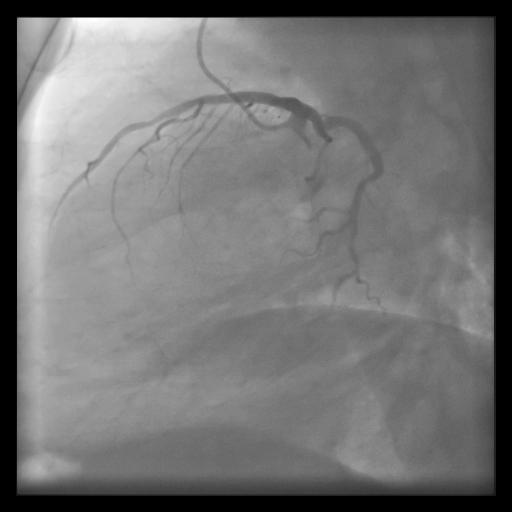Stenosis: (272, 92, 282, 107)
